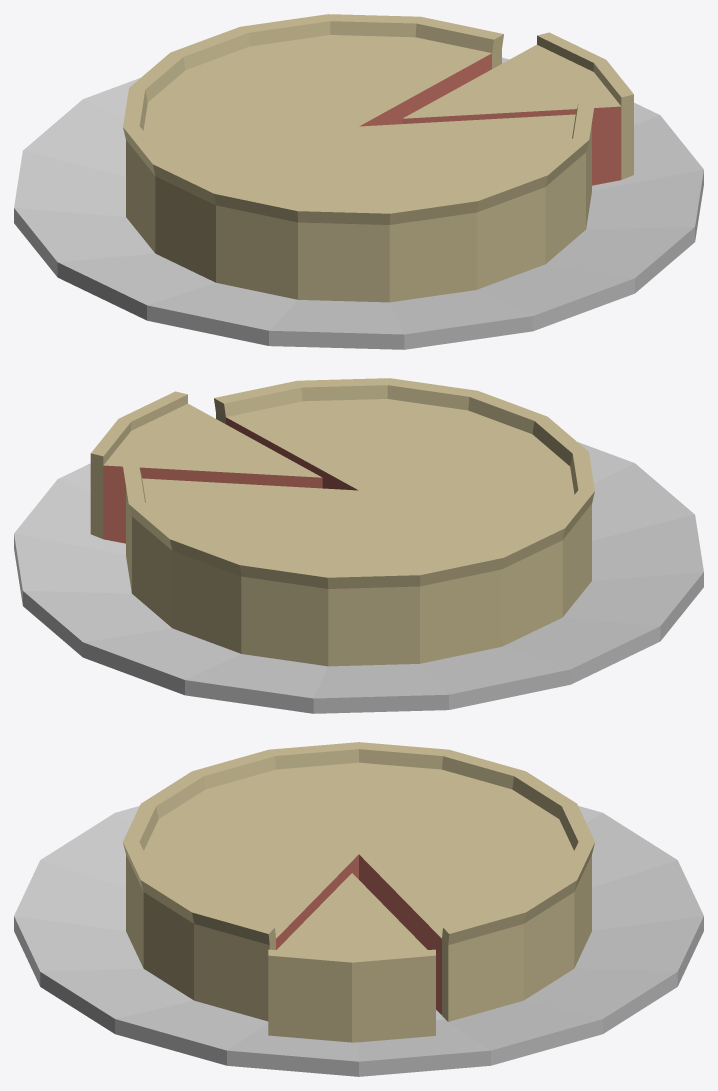
Rendered from Pie.fbx.
The picture shows the model from 3 angles, top to bottom: view 1: azimuth 30°, elevation 25°; view 2: azimuth 150°, elevation 25°; view 3: azimuth 270°, elevation 25°; orthographic projection.
Parts seen in each view (by area): view 1: Cylinder.002, Cylinder, Cylinder.001; view 2: Cylinder.002, Cylinder, Cylinder.001; view 3: Cylinder.002, Cylinder, Cylinder.001.
Boxes of the visible parts, x1,y1,x2,y2 form: Cylinder.002: (123,14,595,302); Cylinder: (14,57,703,349); Cylinder.001: (402,32,633,185); Cylinder.002: (122,378,594,666); Cylinder: (14,442,703,713); Cylinder.001: (90,391,322,543); Cylinder.002: (123,742,594,1021); Cylinder: (14,806,703,1076); Cylinder.001: (268,873,435,1042).
Bounding box in the file's own units: 308 × 51.97 × 308.
